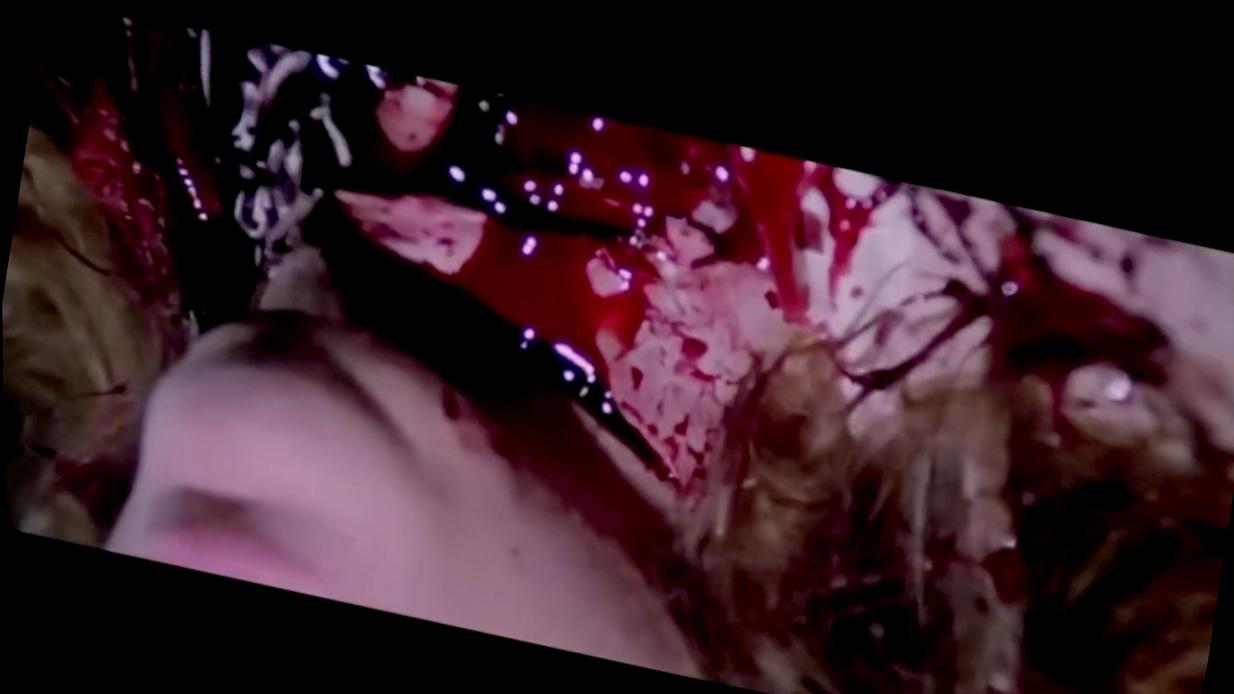Fire: (29, 15, 1234, 694)
